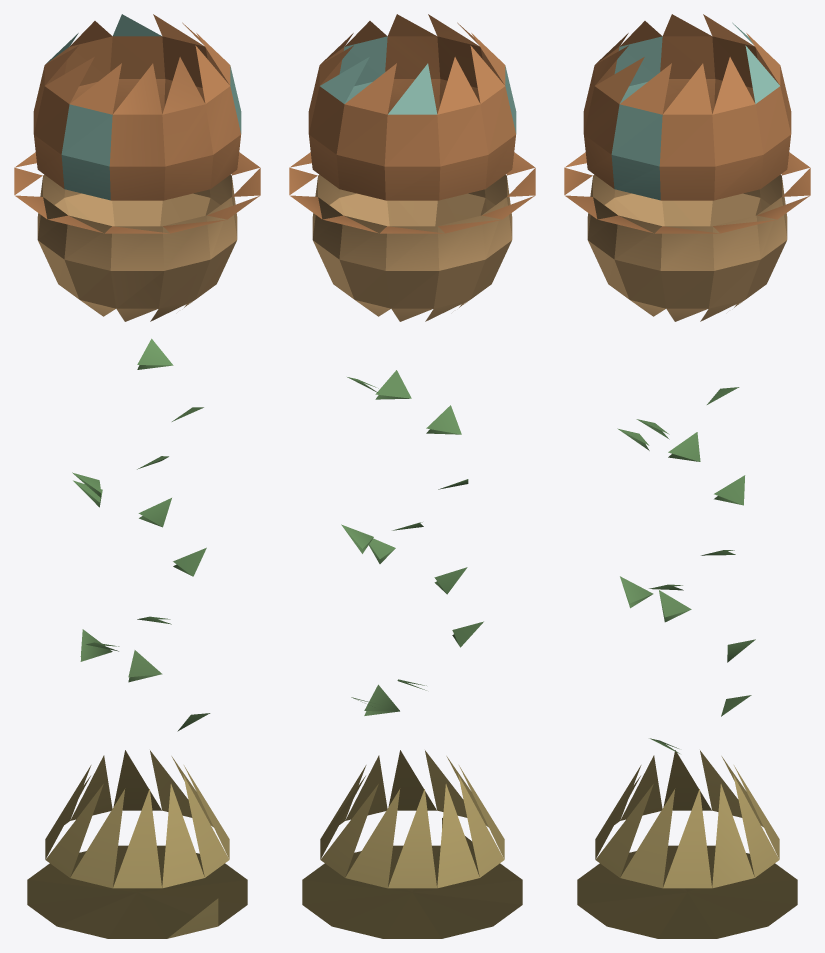
The model's file is lamp.lod.glb.
3 views of the same model, side by side, from view 1: azimuth 30°, elevation 25°; view 2: azimuth 150°, elevation 25°; view 3: azimuth 270°, elevation 25° (orthographic).
Parts seen in each view (by area): view 1: lamp.001; view 2: lamp.001; view 3: lamp.001.
Part boxes in pixels (box(x1,y1,x2,y2)): lamp.001: box(14, 14, 260, 938); lamp.001: box(289, 14, 535, 938); lamp.001: box(564, 14, 810, 938).
Size of the model in its own units: 0.6143 by 2.35 by 0.6143.
